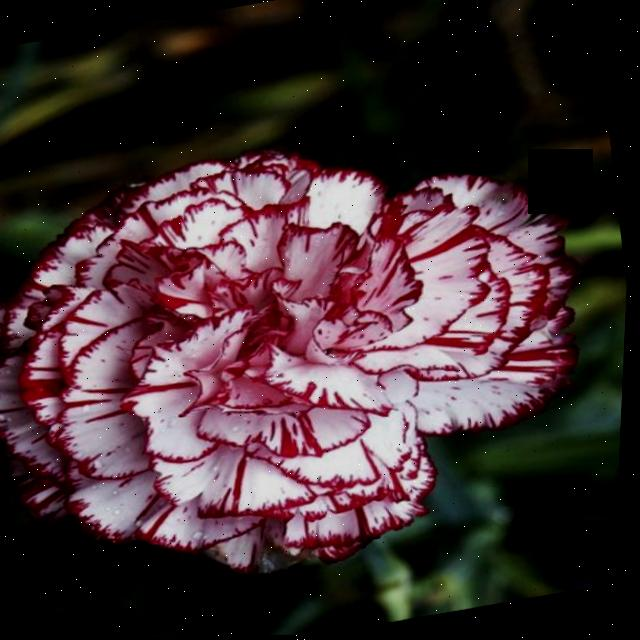carnation: (0, 98, 608, 621)
